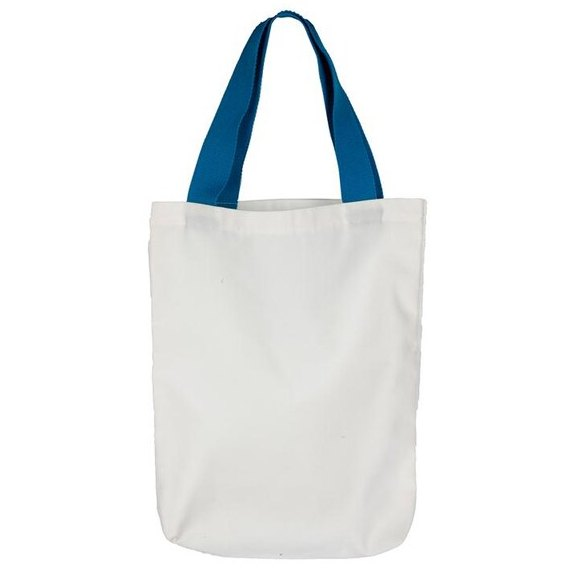clothbag: (146, 10, 428, 558)
